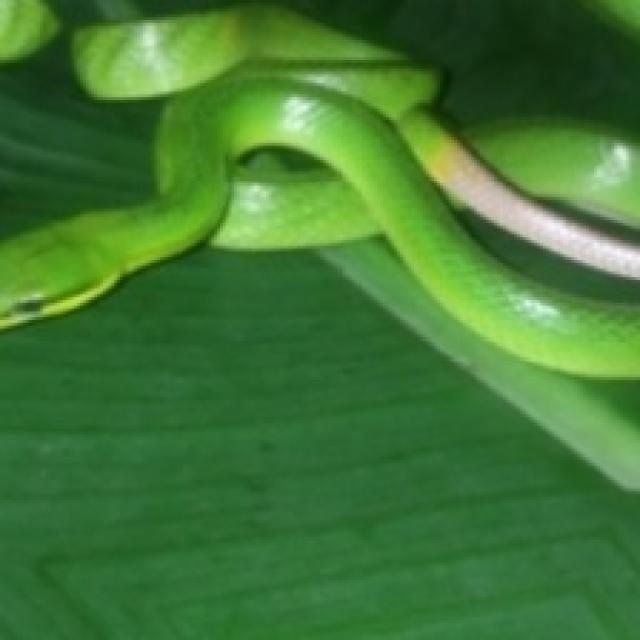red-tailed green ratsnake: (0, 6, 637, 377)
